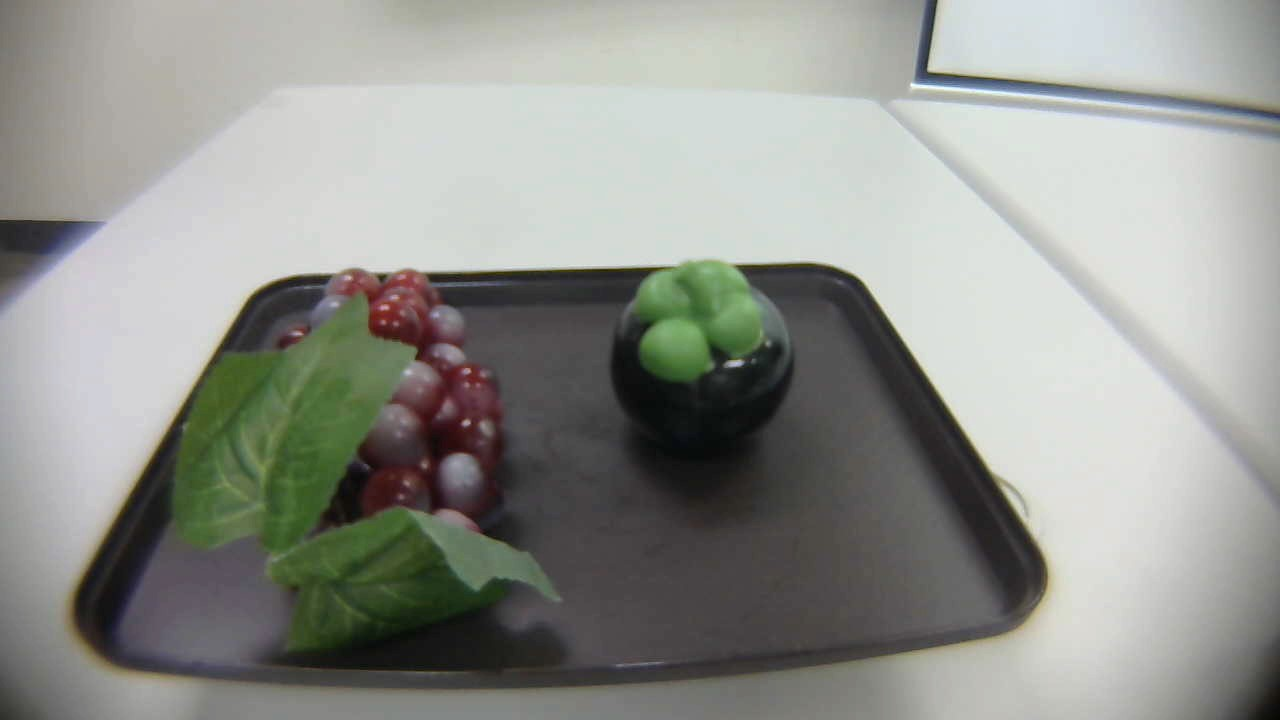grape: (160, 253, 561, 650)
mangosteen: (607, 260, 807, 448)
